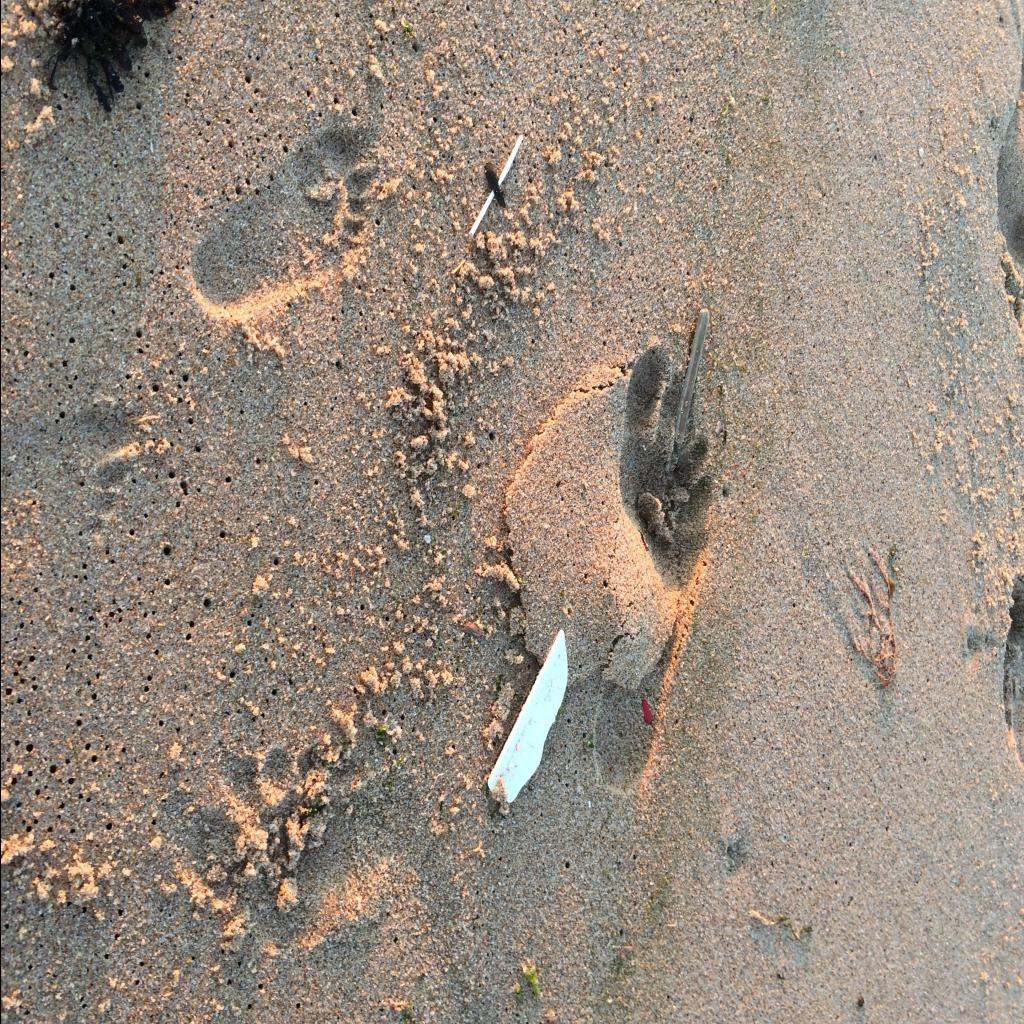Other plastic wrapper: (486, 629, 566, 803), (468, 134, 522, 236), (640, 700, 650, 726)
